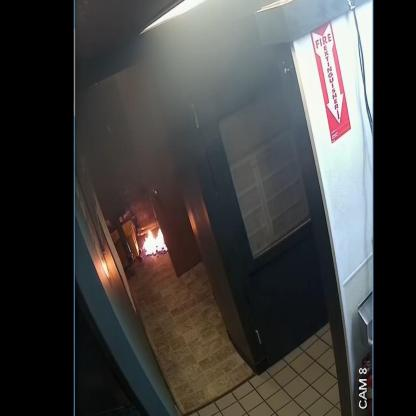fire: (142, 228, 167, 256)
